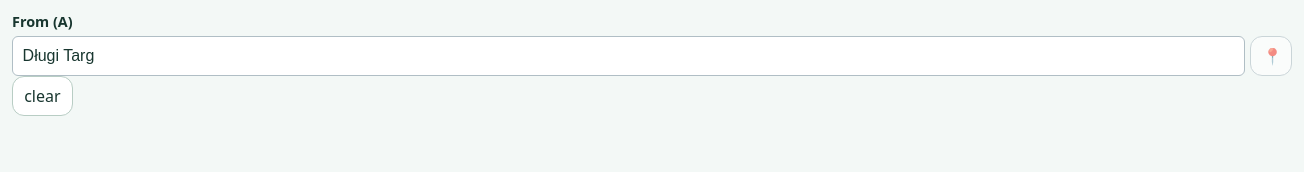
Test: AddressInput › keeps typed text when editing a chosen place
Step 1. Type " 1" into the dropdown → (628, 56), box [12,36,1245,76]
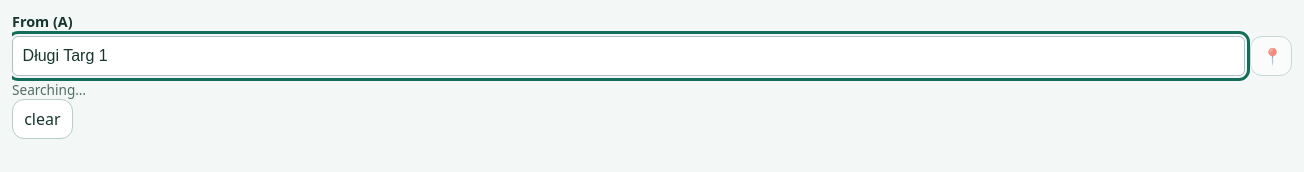
Check: the dropdown holds "Długi Targ 1", box [12,36,1245,76]
